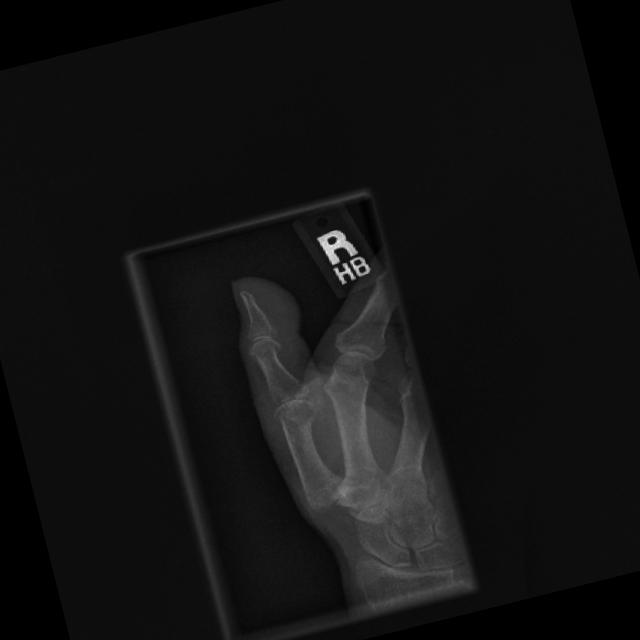fingers positive: (263, 388, 334, 444), (238, 329, 295, 368)
